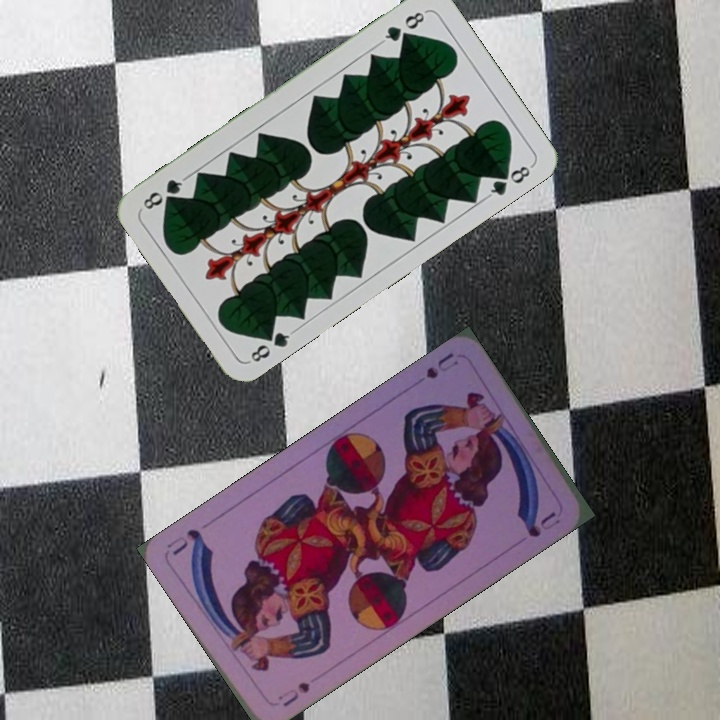G8: (246, 324, 297, 365), (377, 7, 430, 46)
SU: (421, 348, 461, 382), (274, 678, 313, 710)
